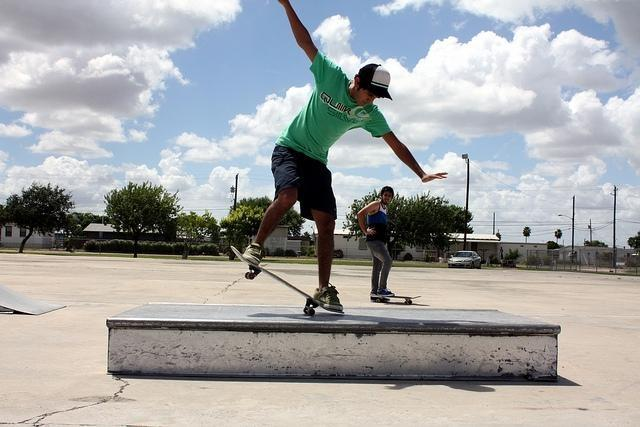car: (448, 250, 482, 268)
